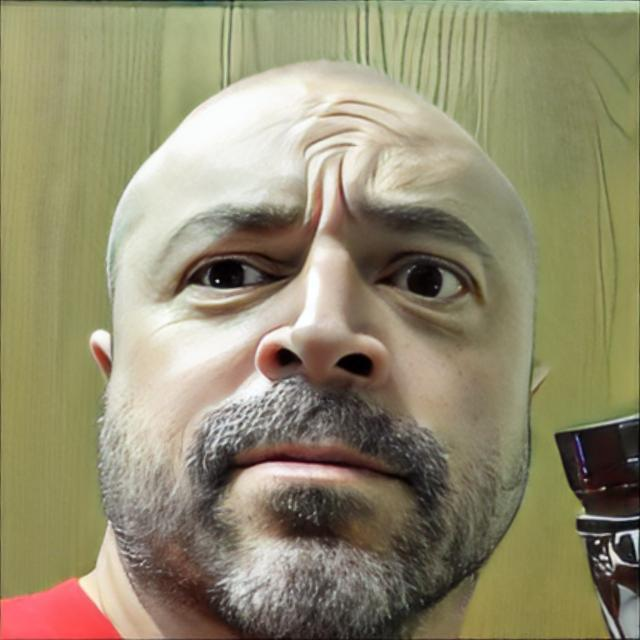fear: (114, 78, 537, 632)
